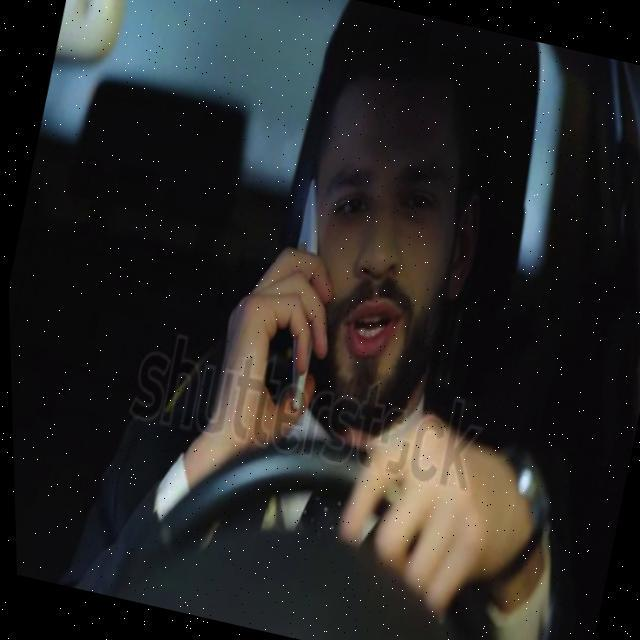PhoneCall: (252, 178, 350, 408)
